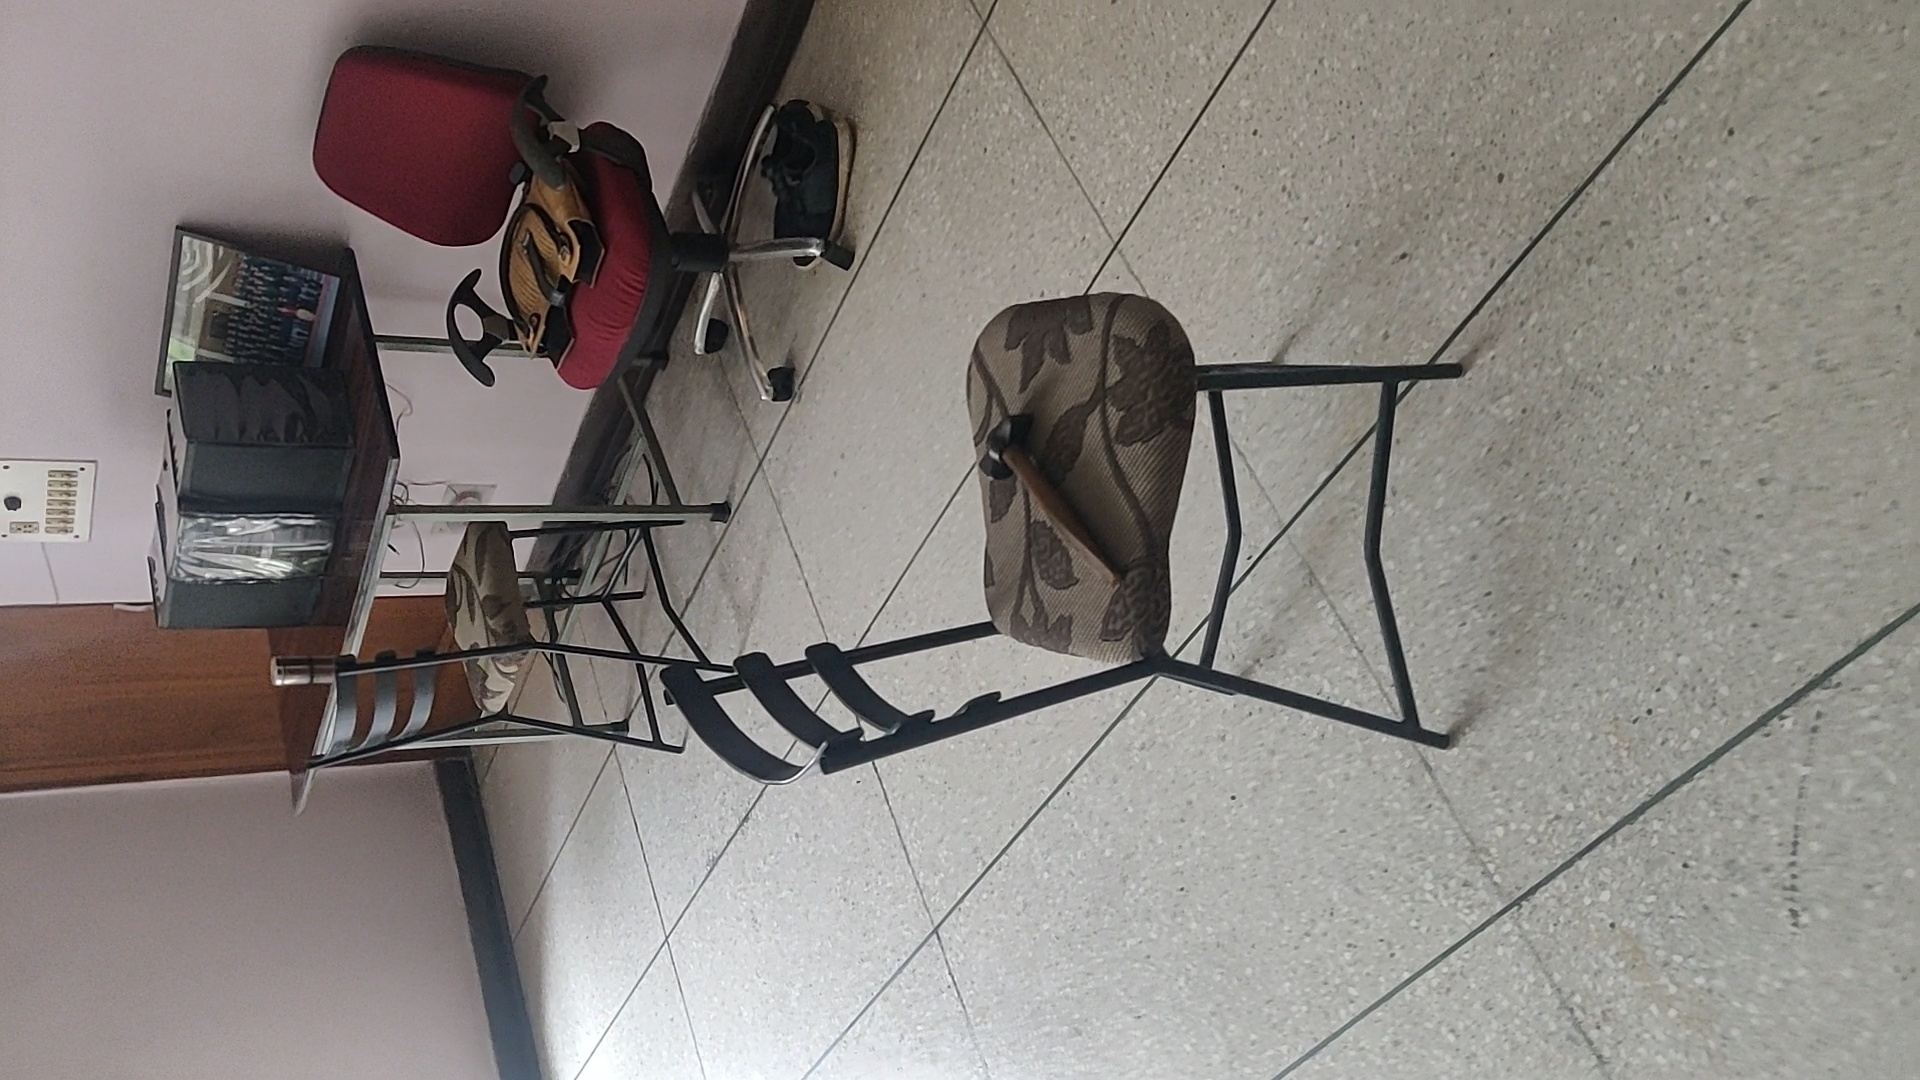hammer: (978, 413, 1118, 589)
